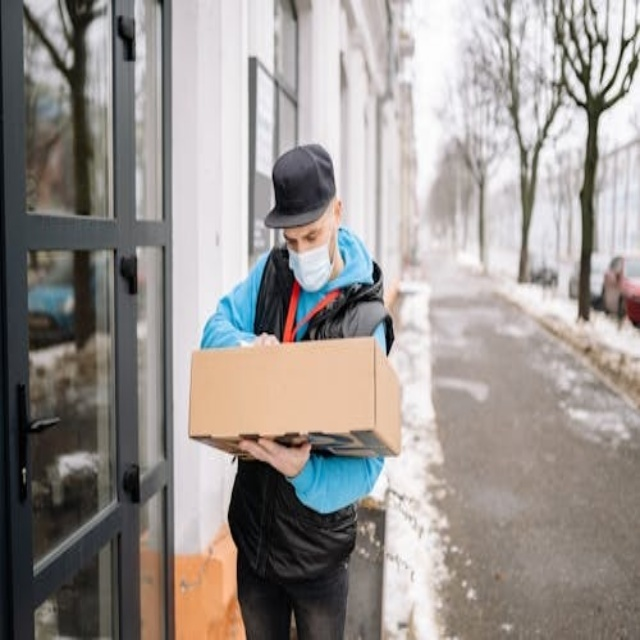Mascara: (286, 217, 336, 292)
Sin_gafas: (279, 223, 328, 248)
Sin_guantes: (235, 436, 309, 478)
